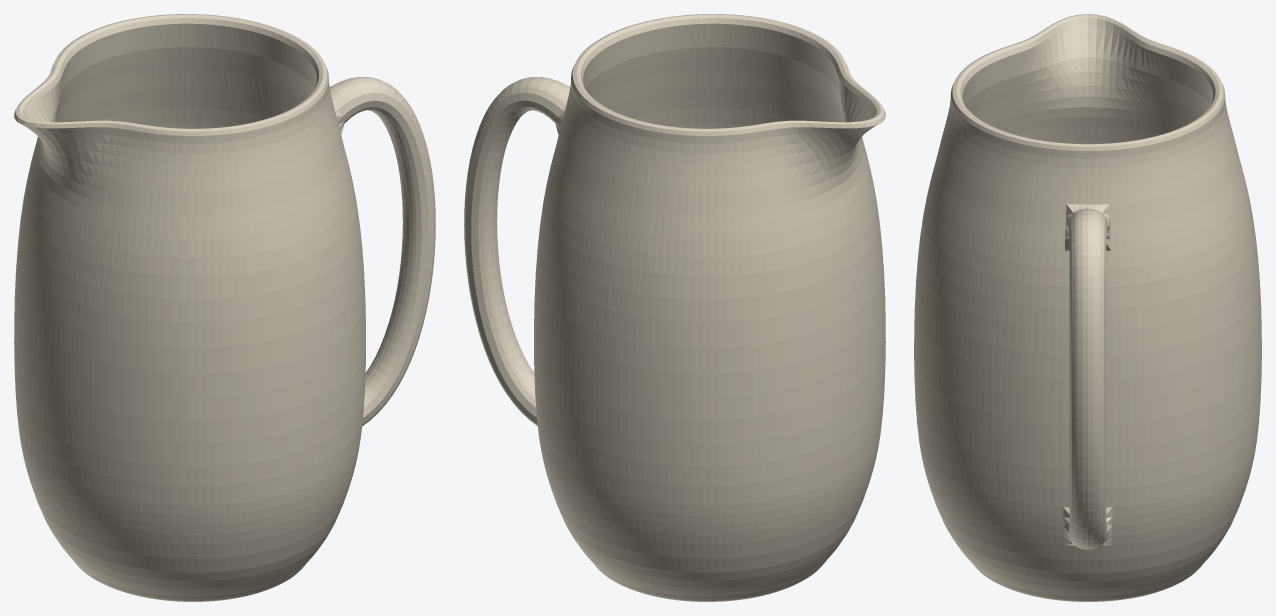
3 views of the same model, side by side, from view 1: azimuth 30°, elevation 25°; view 2: azimuth 150°, elevation 25°; view 3: azimuth 270°, elevation 25° (orthographic). The views are drawn at different scales.
Parts seen in each view (by area): view 1: Open_pitcher_integral_shell_and_loop_handle; view 2: Open_pitcher_integral_shell_and_loop_handle; view 3: Open_pitcher_integral_shell_and_loop_handle.
Part boxes in pixels (x1=…): Open_pitcher_integral_shell_and_loop_handle: x1=14, y1=14, x2=435, y2=601; Open_pitcher_integral_shell_and_loop_handle: x1=464, y1=14, x2=885, y2=601; Open_pitcher_integral_shell_and_loop_handle: x1=914, y1=14, x2=1261, y2=601.
Size of the model in its own units: 0.14 by 0.155 by 0.105.
